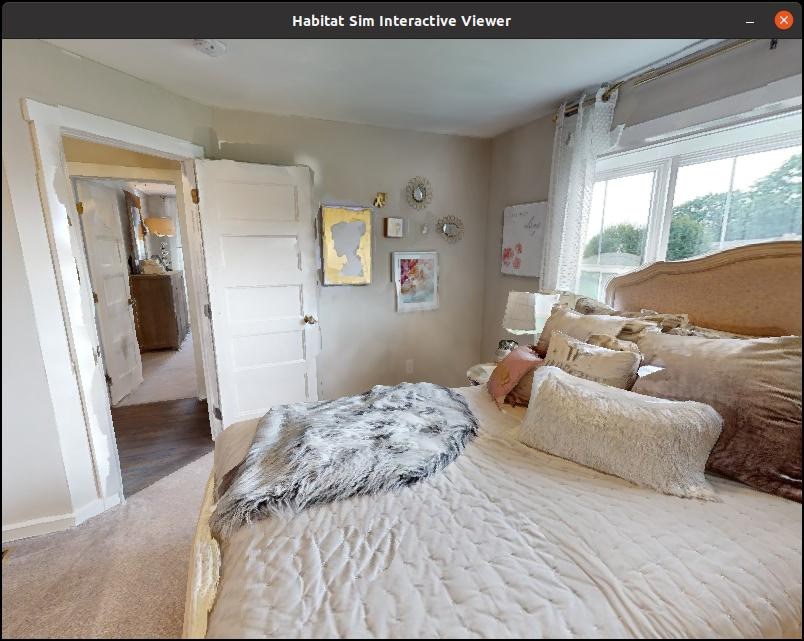bed: (172, 235, 804, 641)
door: (198, 159, 324, 434), (72, 179, 145, 407)
door-frame: (41, 123, 221, 504), (72, 176, 197, 402)
